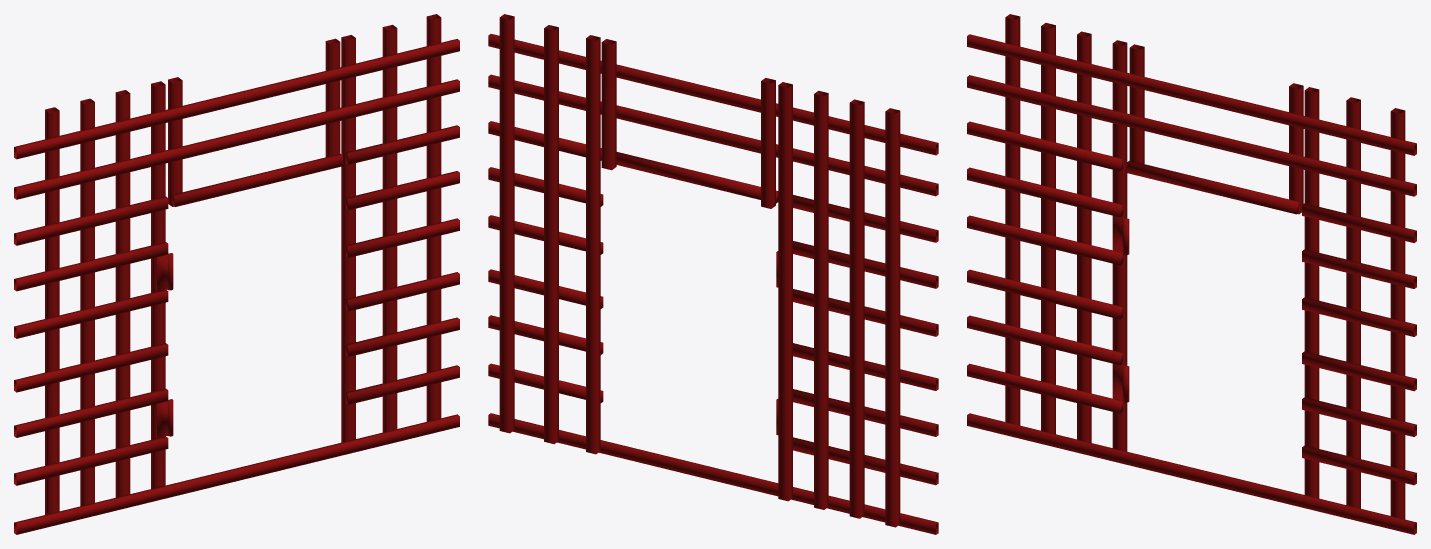
Rendered from BarOutside.FBX.
3 views of the same model, side by side, from view 1: azimuth 30°, elevation 25°; view 2: azimuth 150°, elevation 25°; view 3: azimuth 330°, elevation 25° (orthographic).
Visible parts, largest first — view 1: g_Box008_Box008; view 2: g_Box008_Box008; view 3: g_Box008_Box008.
Part boxes in pixels (x1=…): g_Box008_Box008: x1=14, y1=14, x2=459, y2=534; g_Box008_Box008: x1=488, y1=14, x2=938, y2=534; g_Box008_Box008: x1=967, y1=14, x2=1416, y2=534.
Size of the model in its own units: 112 by 99.6 by 3.15.
